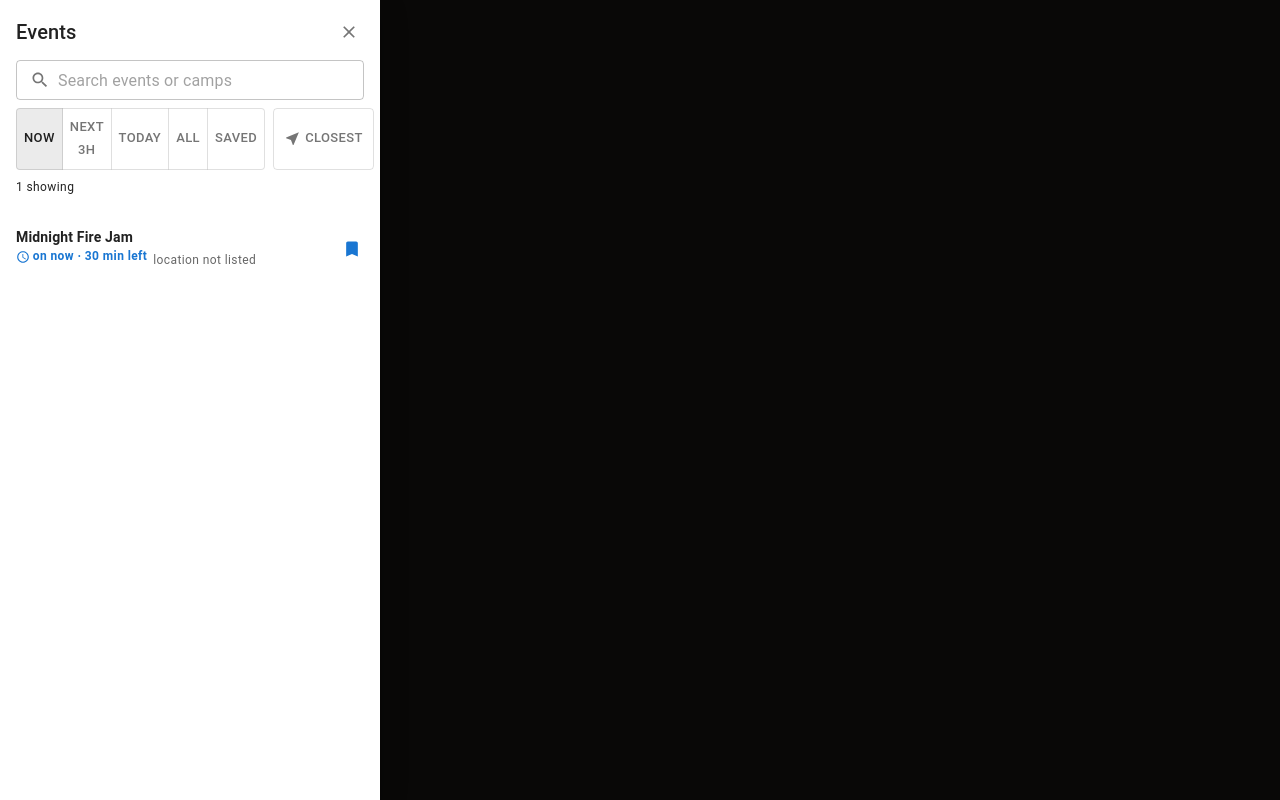
Test: EventsPanel saved identity continuity (#164) › renders a reused uid as stale instead of silently binding the bookmark to the new event
What coordinates should you click on to do the following:
click the button "Saved"
I would click on:
 (236, 139)
Its box is [207,108,265,170].
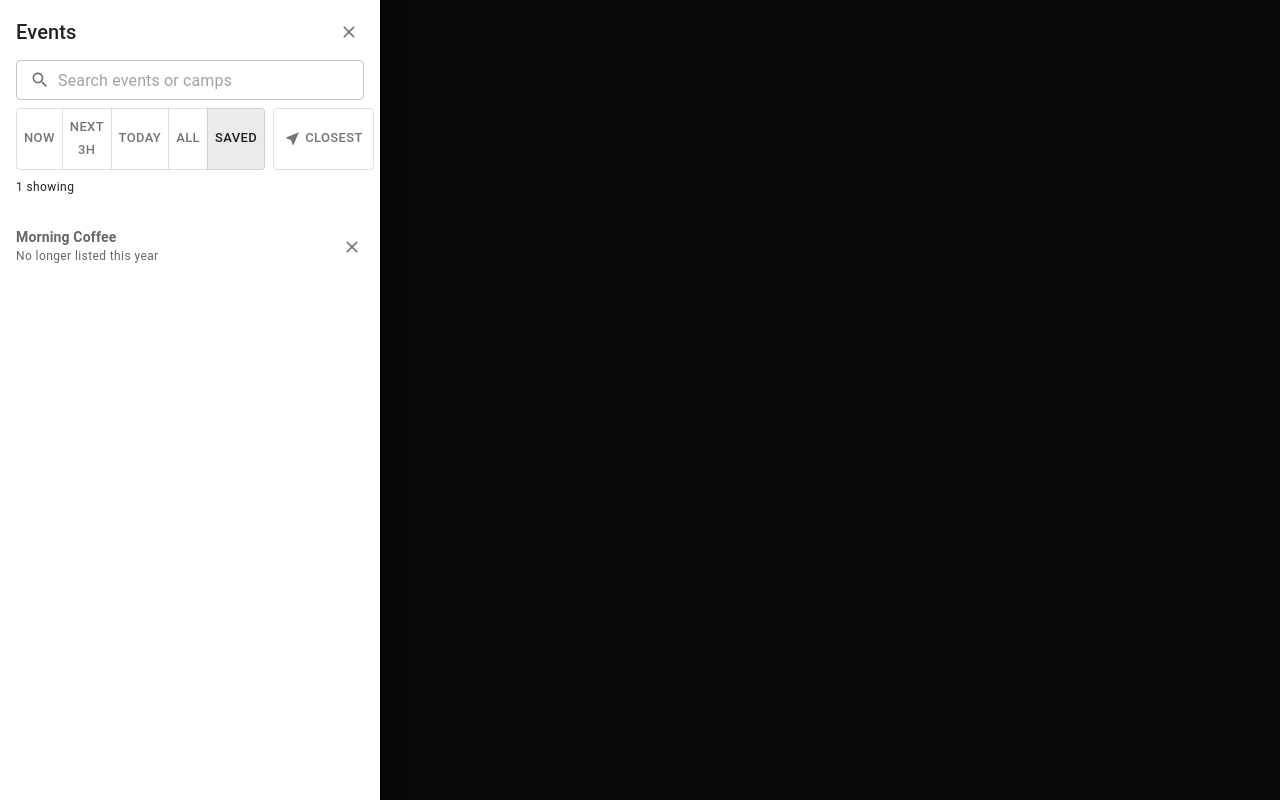
Expected: the text "Morning Coffee" is shown, [16,229,116,245]
Expected: the text "No longer listed this year" is shown, [16,249,159,263]
Expected: the button "Midnight Fire Jam" is gone
